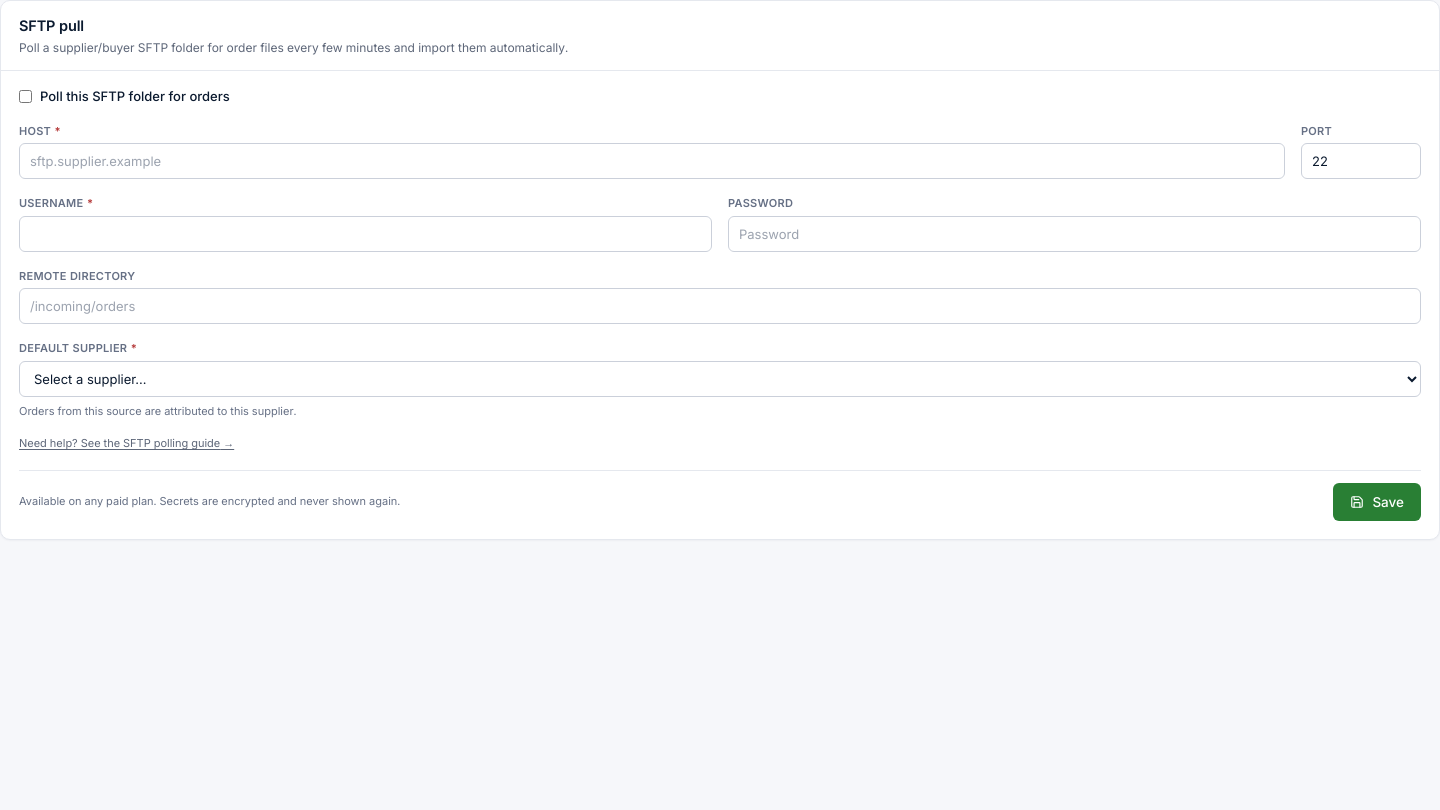
Scenario: sftp panel — a save failure is a sentence, not a status line › keeps its own client-side validation copy, which IS prose someone wrote
Click the checkbox labelled "Poll this SFTP folder for orders".
click(26, 97)  # box [19,90,32,103]
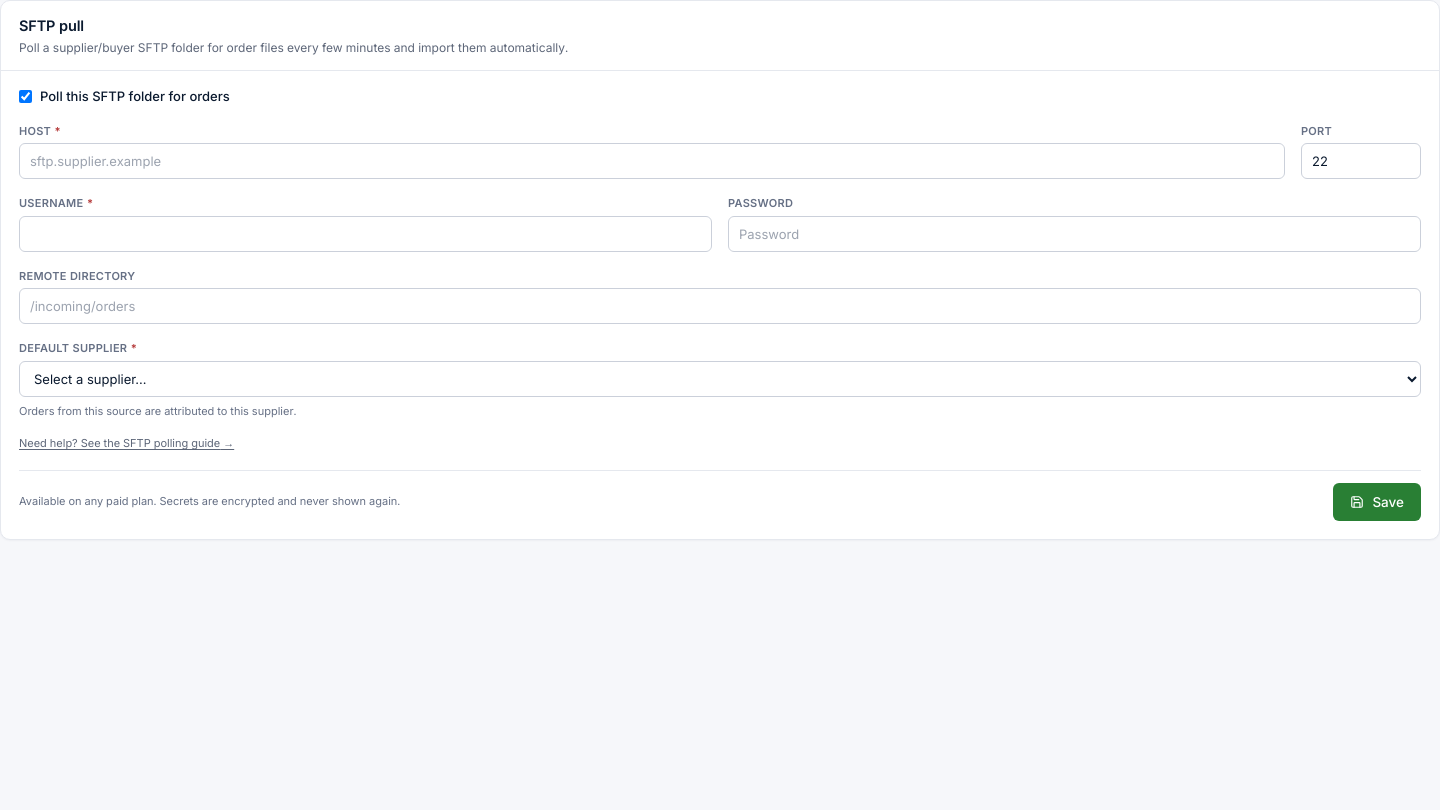
Click the button "Save".
click(1377, 502)  # box [1333,483,1421,521]
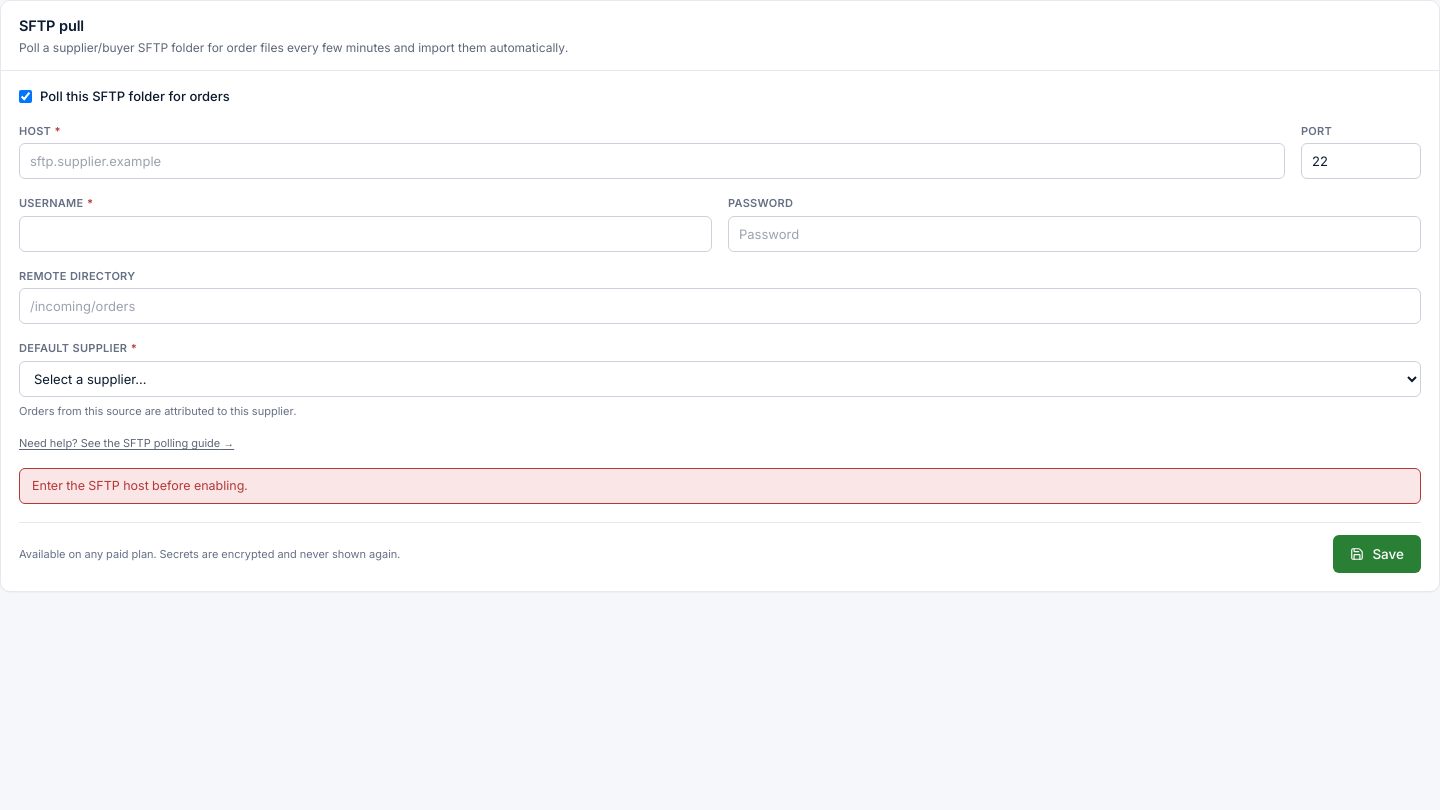
Expected: the message reads "Enter the SFTP host before enabling.", [32,478,248,493]
